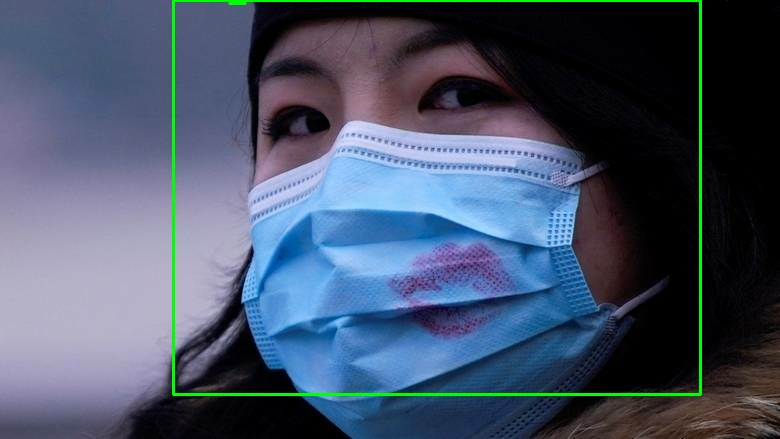with_mask: (231, 2, 667, 439)
